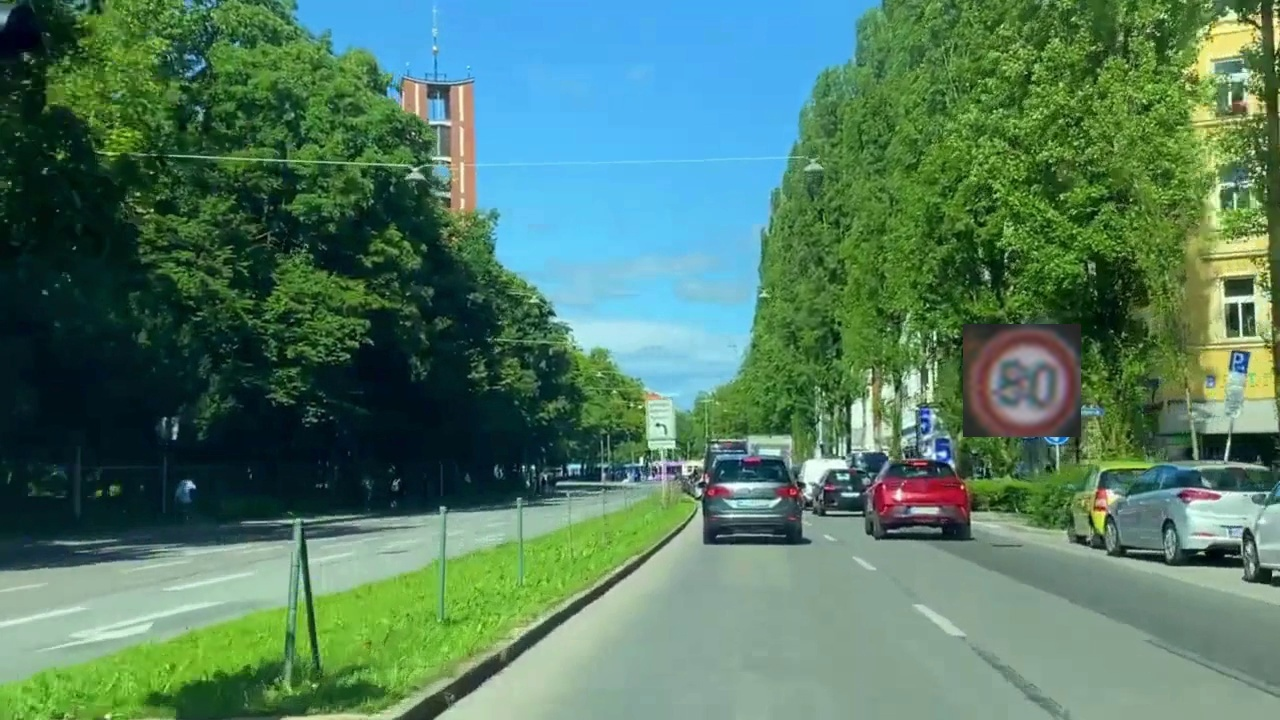Speed 80: (963, 324, 1081, 437)
